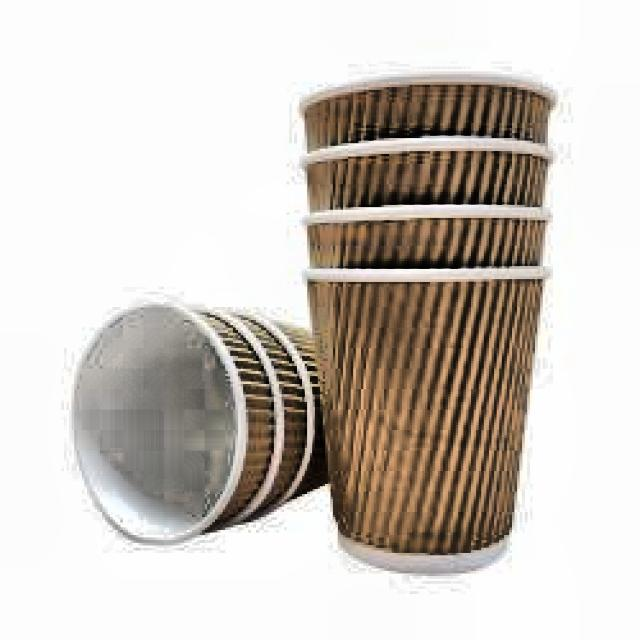Cup: (288, 61, 562, 576), (58, 284, 365, 553)
